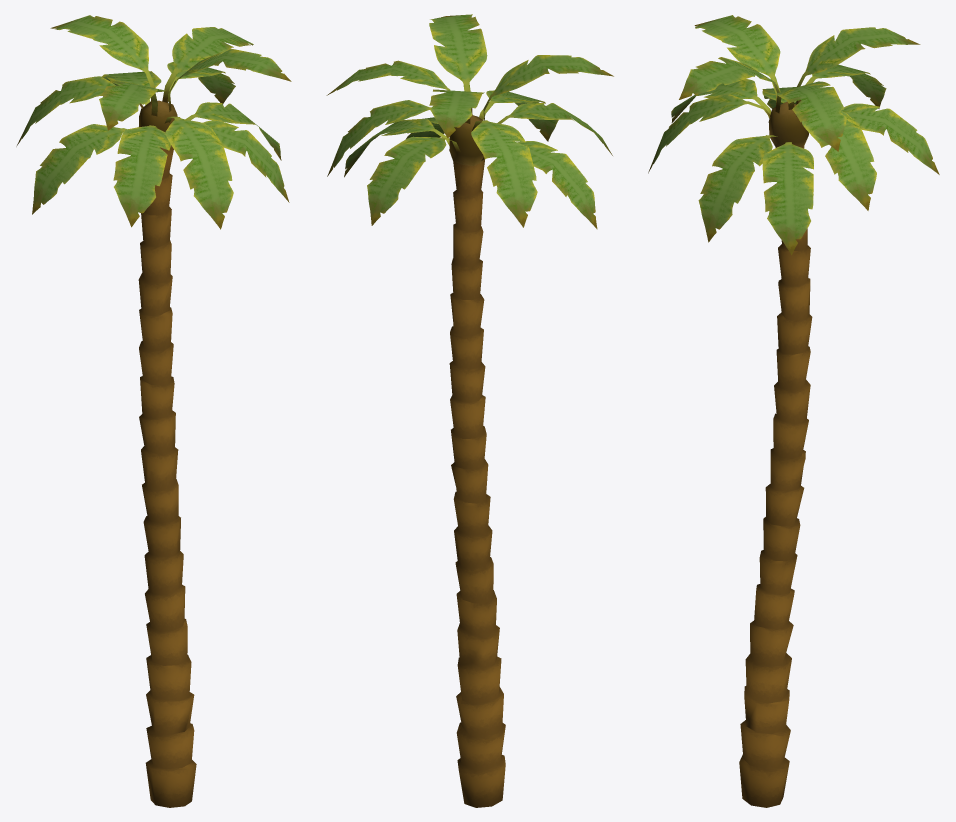
Rendered from tree_01.fbx.
3 renders of one model, left to right at view 1: azimuth 30°, elevation 25°; view 2: azimuth 150°, elevation 25°; view 3: azimuth 270°, elevation 25°, orthographic.
Visible parts, largest first — view 1: Cylinder.008; view 2: Cylinder.008; view 3: Cylinder.008.
Part boxes in pixels (x1,y1,x2,y2): Cylinder.008: (16, 15, 291, 807); Cylinder.008: (326, 14, 613, 807); Cylinder.008: (648, 15, 939, 807).
Bounding box in the file's own units: 692 × 1946 × 691.
1 material, 1 textured.
